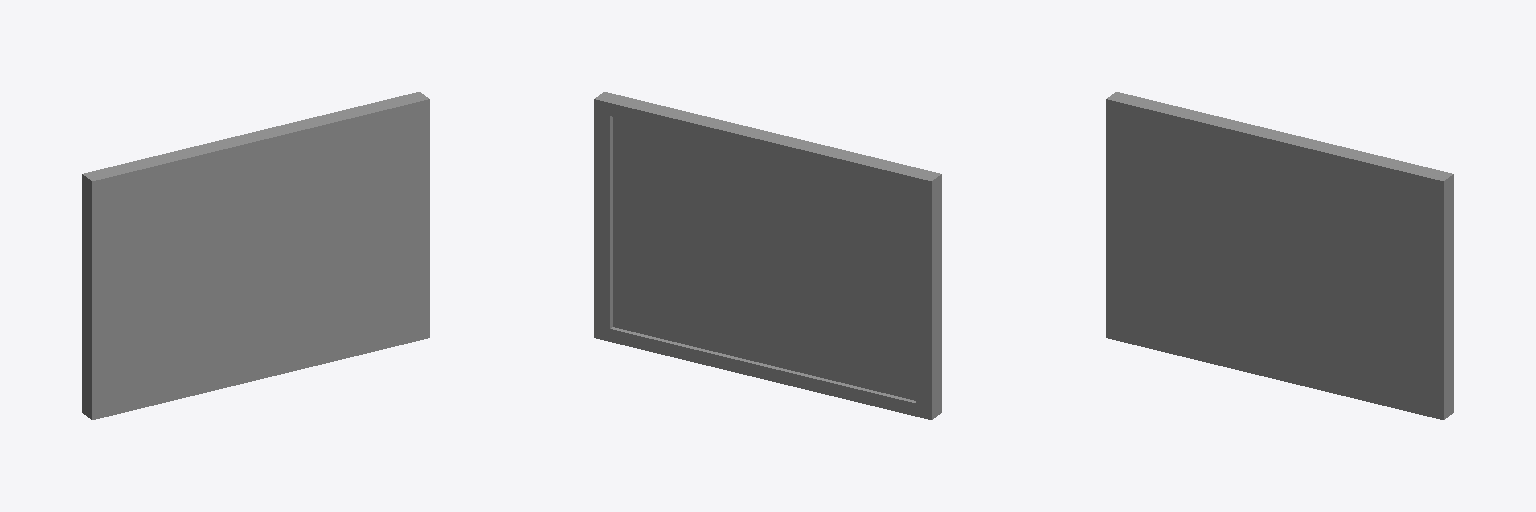
The picture shows the model from 3 angles: view 1: azimuth 30°, elevation 25°; view 2: azimuth 150°, elevation 25°; view 3: azimuth 330°, elevation 25°; orthographic projection.
Parts seen in each view (by area): view 1: Cube.157_Cube.231; view 2: Cube.157_Cube.231; view 3: Cube.157_Cube.231.
Part boxes in pixels (bbox=[...]): Cube.157_Cube.231: bbox=[82, 92, 429, 419]; Cube.157_Cube.231: bbox=[594, 92, 941, 419]; Cube.157_Cube.231: bbox=[1106, 92, 1453, 419].
Bounding box in the file's own units: 4.54 × 3.07 × 0.2403.